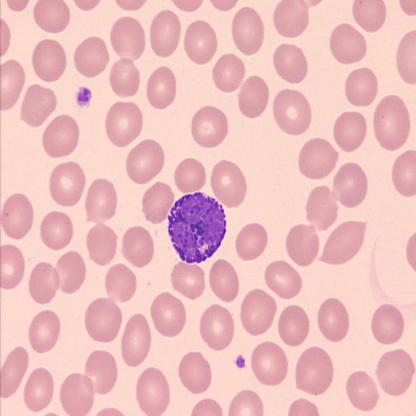Basophil: (163, 188, 229, 266)
